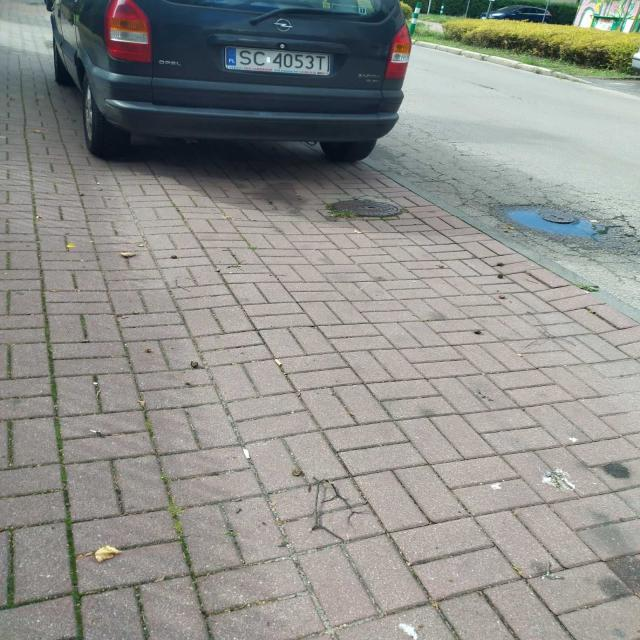pl_license_plate: (226, 47, 328, 71)
